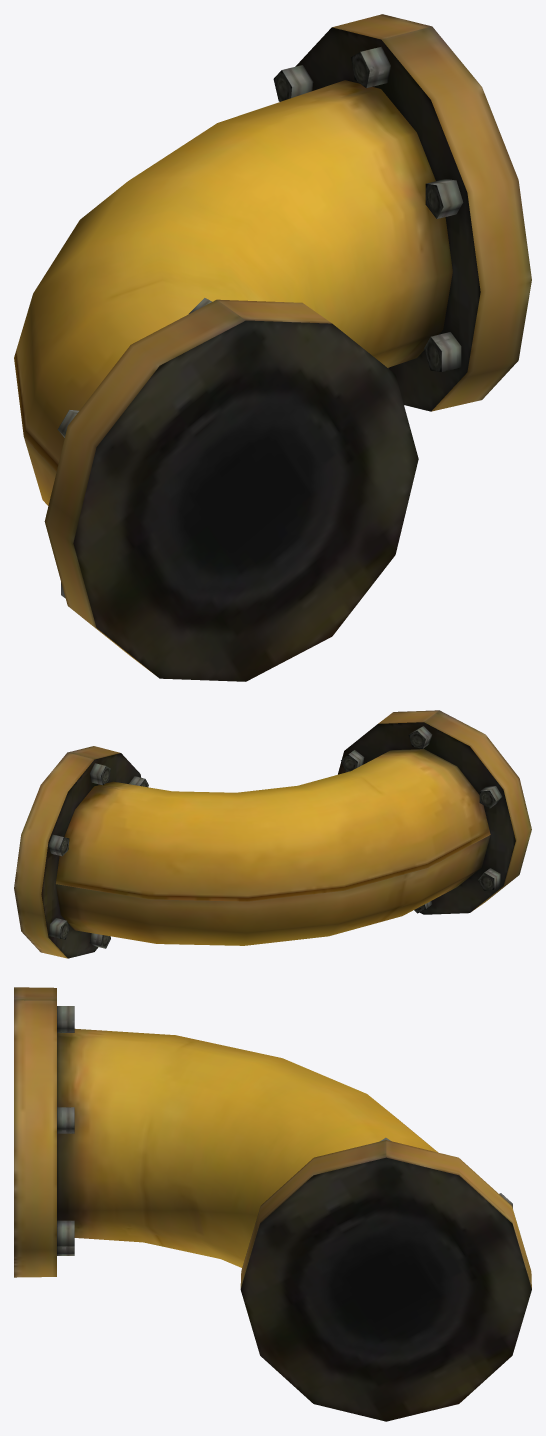
The picture shows the model from 3 angles, top to bottom: view 1: azimuth 30°, elevation 25°; view 2: azimuth 150°, elevation 25°; view 3: azimuth 270°, elevation 25°; orthographic projection. The views are drawn at different scales.
Visible parts, largest first — view 1: body0_model0_lod0_mesh0; view 2: body0_model0_lod0_mesh0; view 3: body0_model0_lod0_mesh0.
Part boxes in pixels (bbox=[...]): body0_model0_lod0_mesh0: bbox=[14, 14, 531, 681]; body0_model0_lod0_mesh0: bbox=[14, 710, 531, 958]; body0_model0_lod0_mesh0: bbox=[14, 987, 531, 1421].
Bounding box in the file's own units: 70.33 × 39.57 × 70.35.
1 material, 1 textured.
